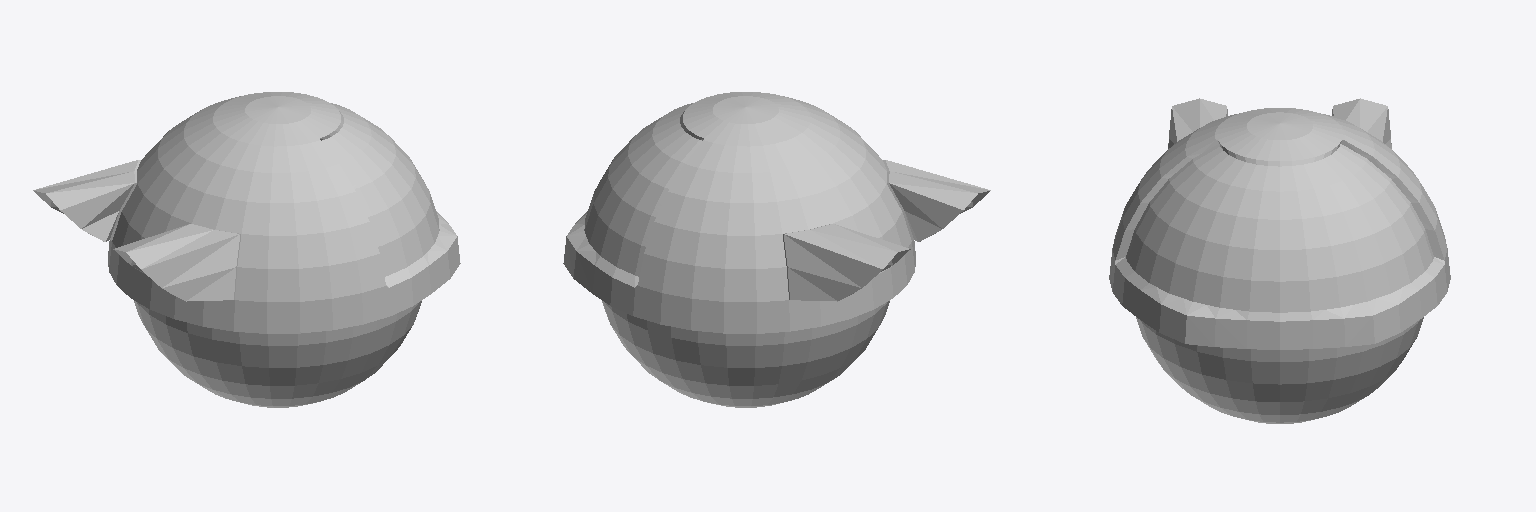
The model's file is car.obj.
3 views of the same model, side by side, from view 1: azimuth 30°, elevation 25°; view 2: azimuth 150°, elevation 25°; view 3: azimuth 270°, elevation 25° (orthographic).
Visible parts, largest first — view 1: Sphere; view 2: Sphere; view 3: Sphere.
Part boxes in pixels (left/top/right/bottom): Sphere: left=33, top=92, right=460, bottom=407; Sphere: left=563, top=92, right=990, bottom=407; Sphere: left=1109, top=98, right=1450, bottom=423.
Size of the model in its own units: 6.67 by 5.37 by 5.8.